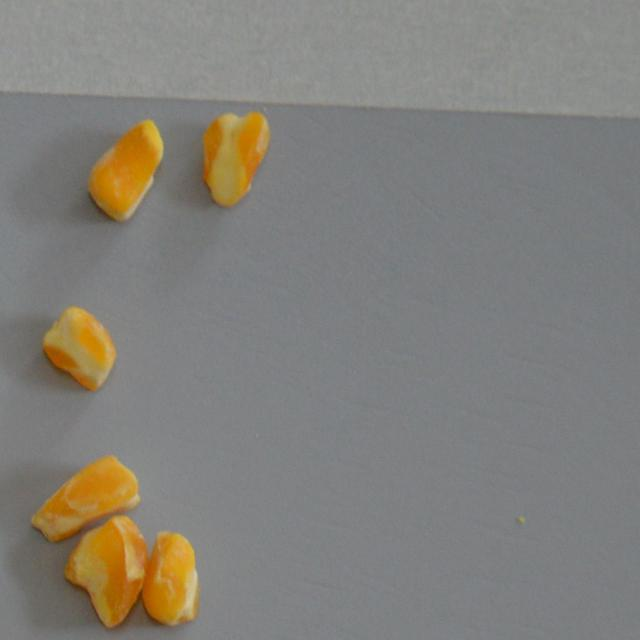pelicula: (28, 454, 140, 544), (62, 513, 146, 629), (86, 118, 164, 225), (198, 110, 270, 210), (40, 304, 121, 390), (141, 528, 201, 628)
